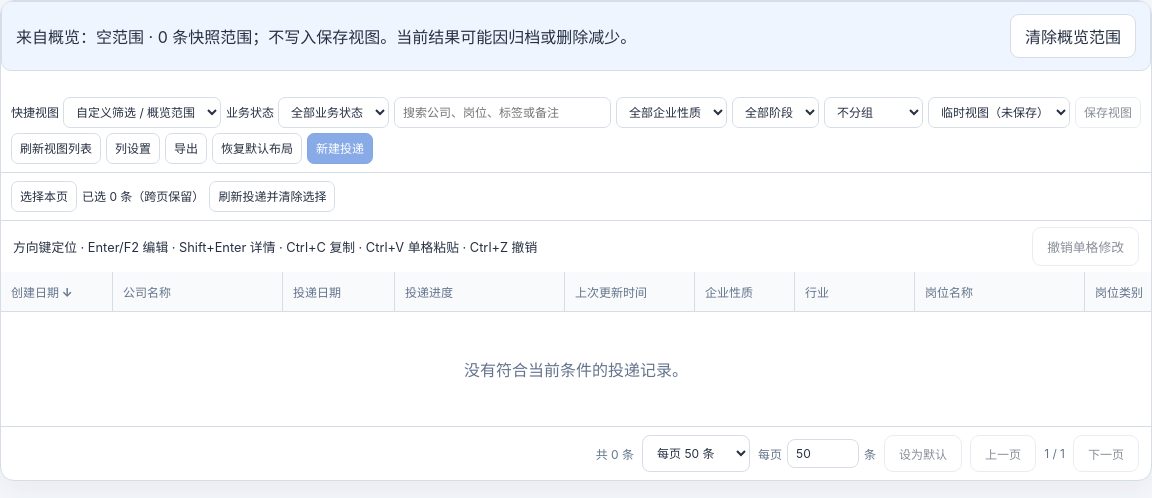
it: application management › intersects the business filter with search without dropping an empty overview scope
Expected: the text "没有符合当前条件的投递记录。" is shown, [464,360,688,380]
Select "准备投递" in the dropdown named "业务状态筛选". click: (334, 112)
box: [278,97,389,128]
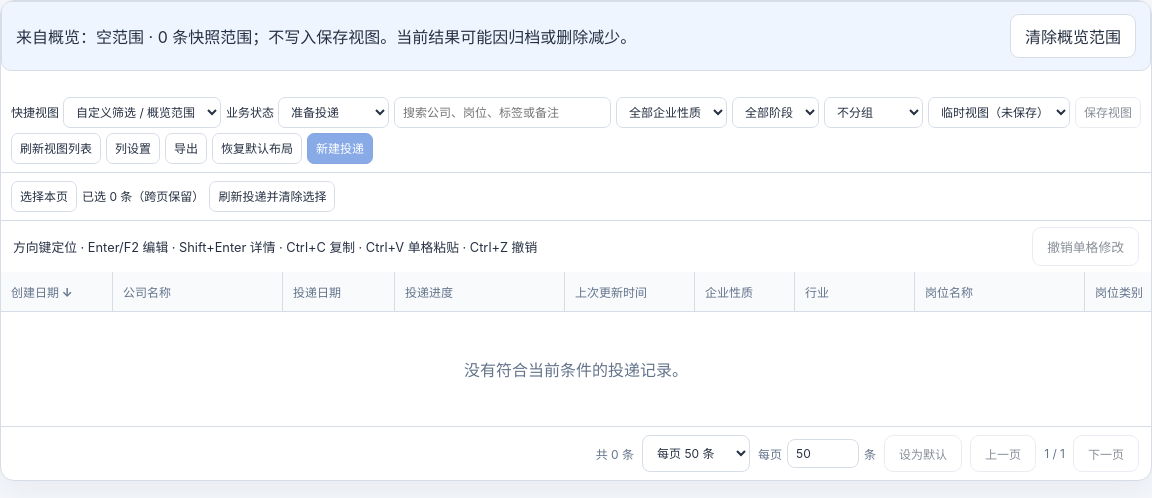
Expected: the text "示例公司" is not shown
Click the button "清除概览范围". click: (1073, 36)
box: [1010,14,1136,58]
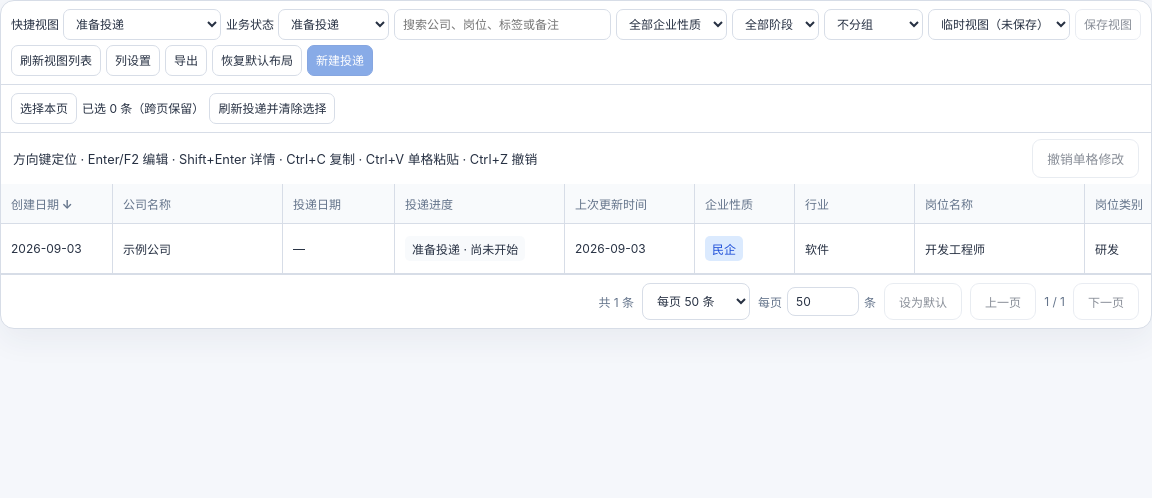
Now the text "示例公司" is shown, box [123,242,171,257]
Type "无此公司" into the field named "搜索投递". click: (502, 24)
box: [394,9,611,40]
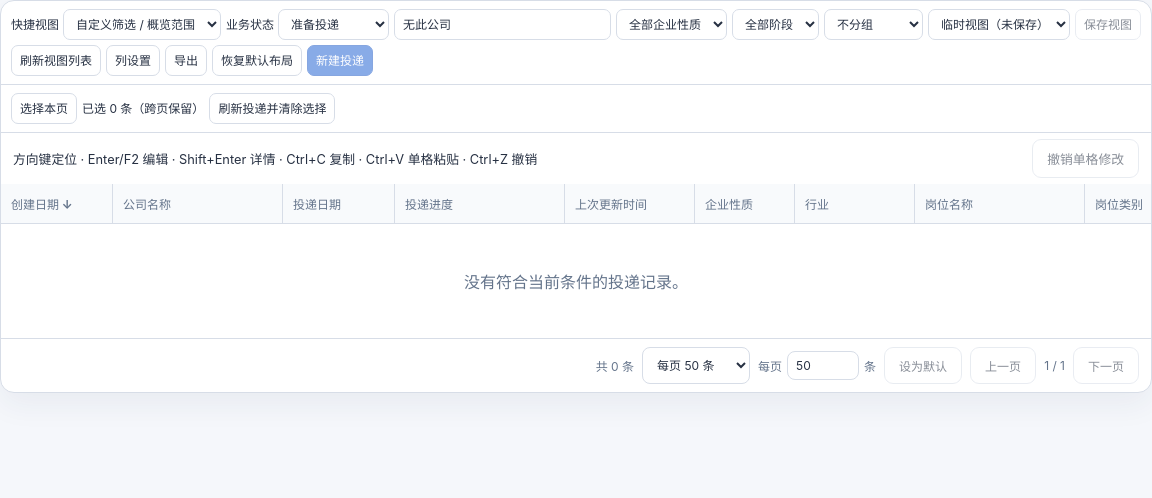
Now the text "示例公司" is gone
Now the dropdown labelled "快捷视图" shows "自定义筛选 / 概览范围"
Select "全部投递" in the dropdown labelled "快捷视图". click: (142, 24)
box: [63,9,221,40]
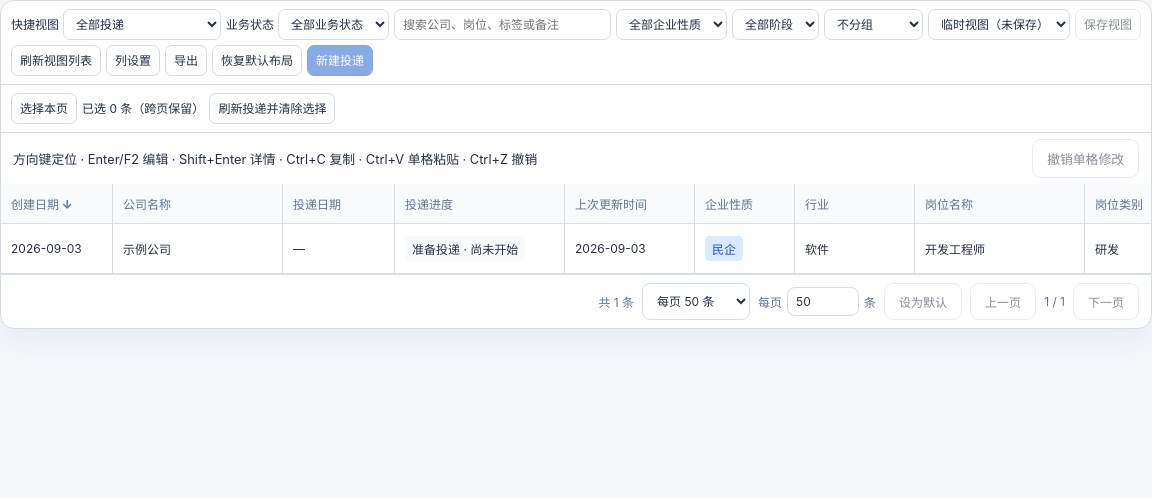
Now the field named "搜索投递" is empty, box [394,9,611,40]
Now the text "示例公司" is shown, box [123,242,171,257]
